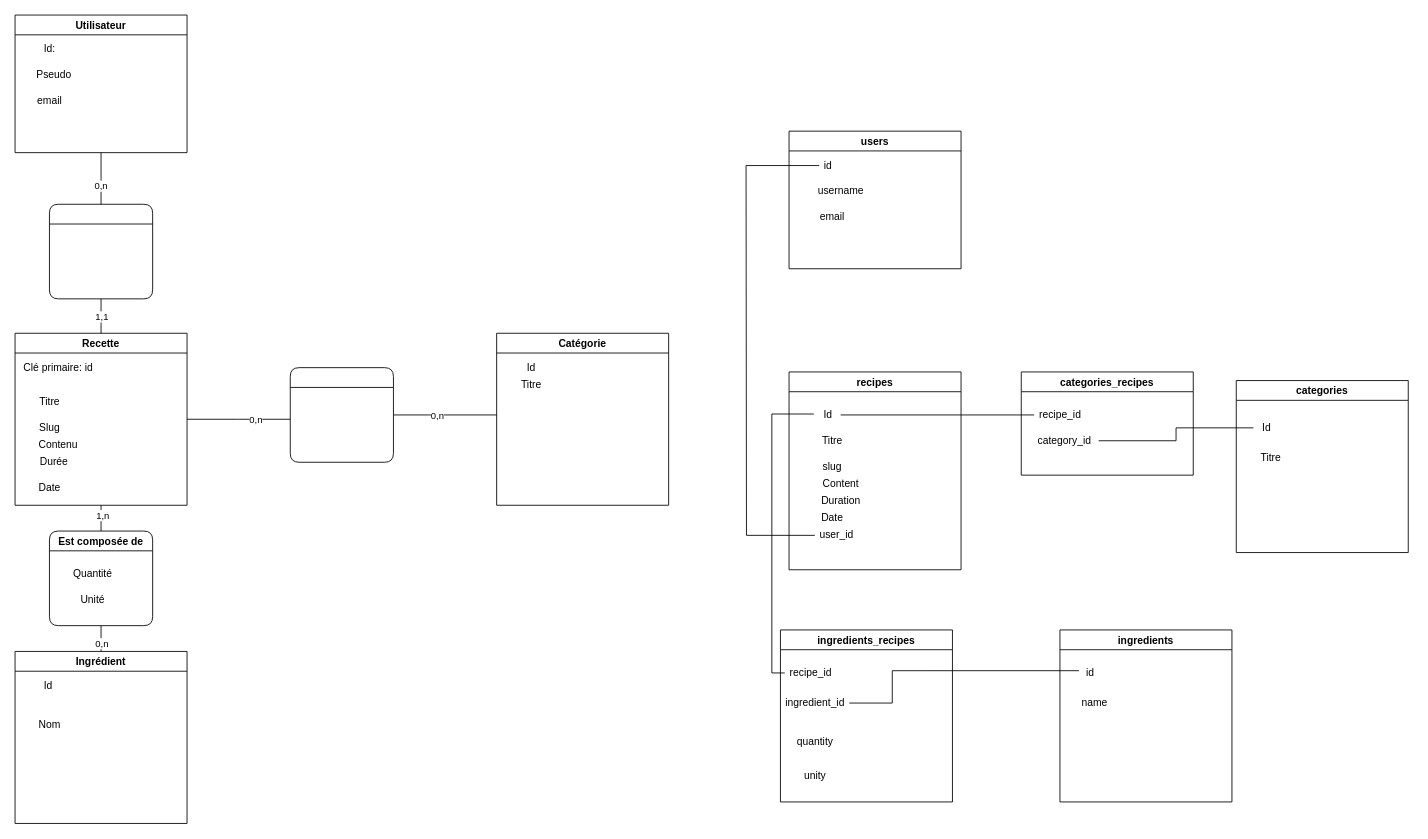
The diagram is 1428 pixels wide and 839 high, and some of its shapes have lost their labels. The centre of each missing label's shape, as x and y in pixels:
Appartient: the point at 341,414
Crée: the point at 101,251
